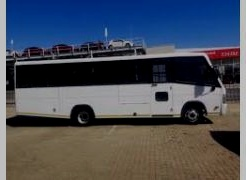bus: (14, 46, 225, 124)
